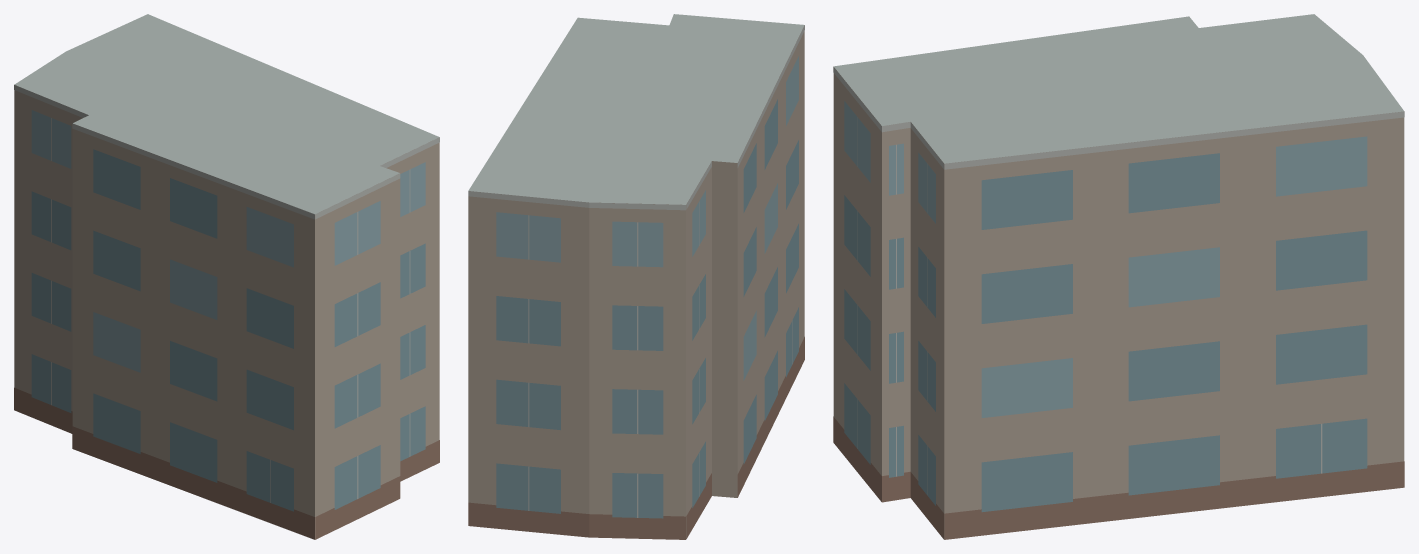
The model's file is survey-upis-32607895.glb.
The picture shows the model from 3 angles, left to right: view 1: azimuth 30°, elevation 25°; view 2: azimuth 150°, elevation 25°; view 3: azimuth 270°, elevation 25°; orthographic projection. The views are drawn at different scales.
Visible parts, largest first — view 1: survey-upis-32607895.tmp; view 2: survey-upis-32607895.tmp; view 3: survey-upis-32607895.tmp.
Boxes of the visible parts, bbox=[...] form: survey-upis-32607895.tmp: bbox=[14, 14, 439, 539]; survey-upis-32607895.tmp: bbox=[468, 14, 804, 539]; survey-upis-32607895.tmp: bbox=[833, 14, 1404, 539].
Size of the model in its own units: 12.89 by 15.1 by 20.78.
